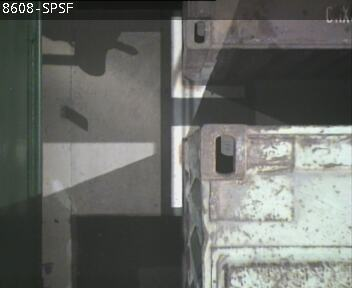groundmarker_1: (171, 16, 244, 208)
